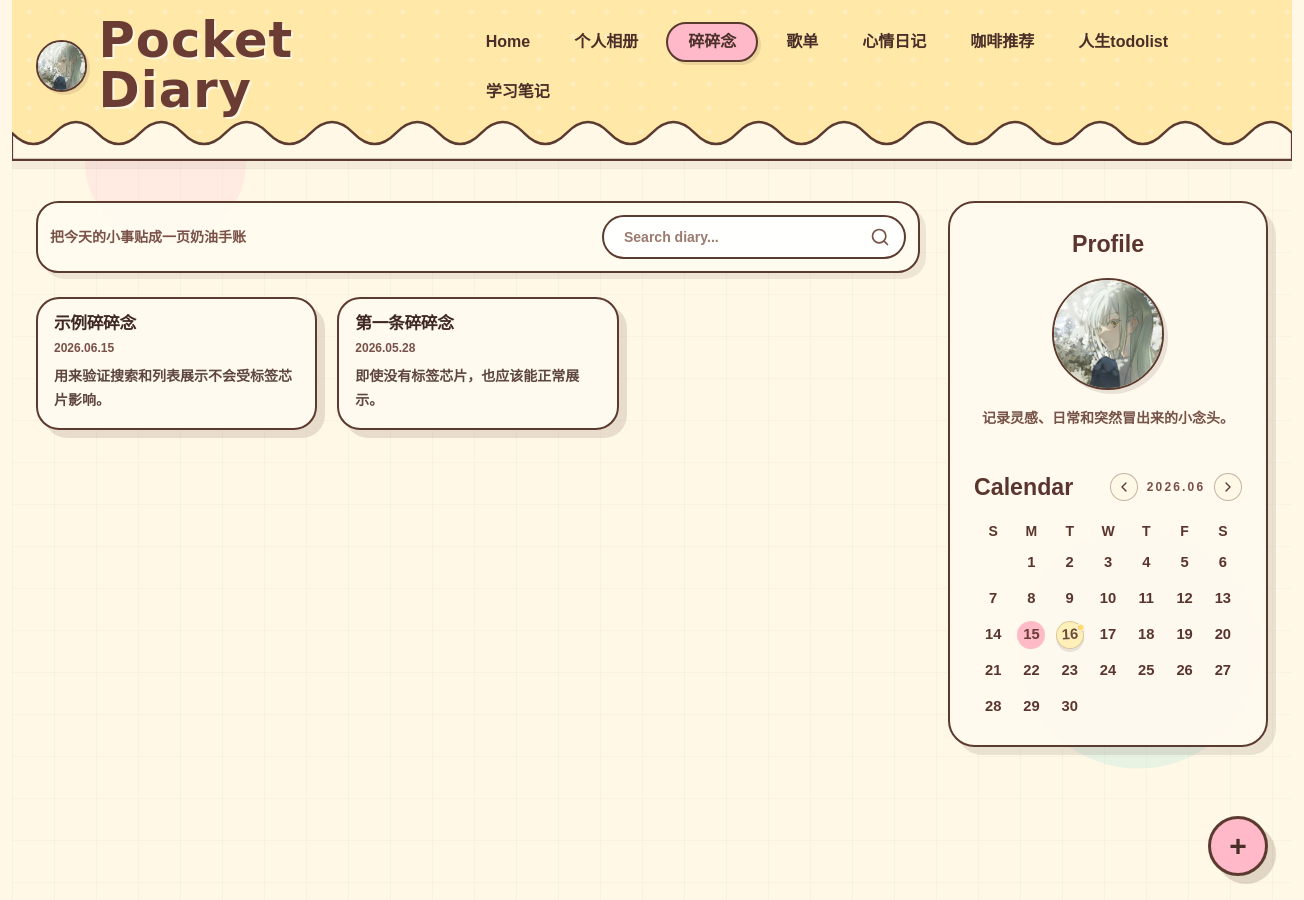
Test case: ThoughtsPageView › highlights days with thoughts after switching calendar months
The image size is (1304, 900).
Expected: the text "2026.06" is shown, [1144,479,1208,495]
Click the button named "上一个月". click: (1124, 487)
box: [1110,473,1138,501]
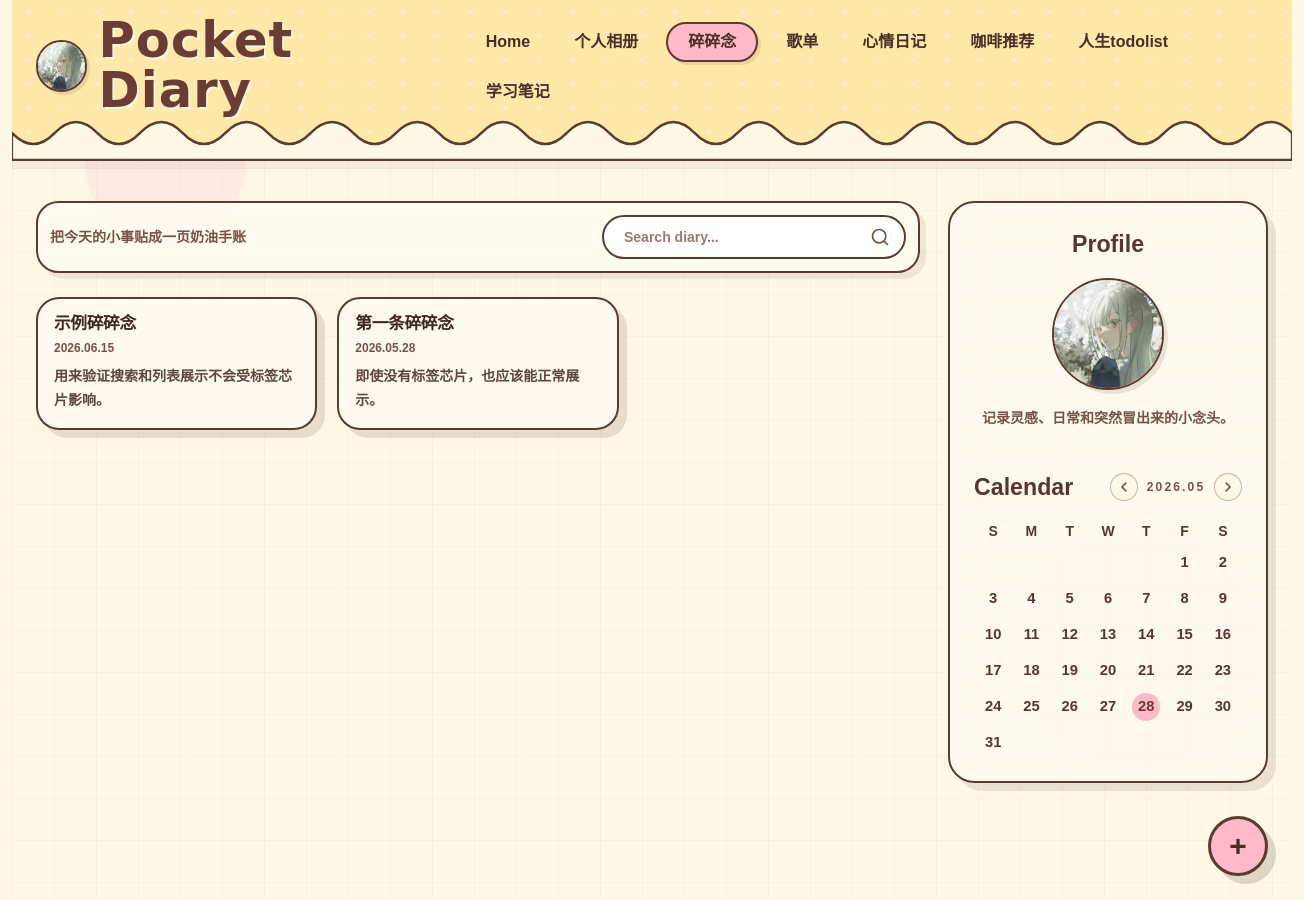
Result: the text "2026.05" is shown at [1144,479,1208,495]
